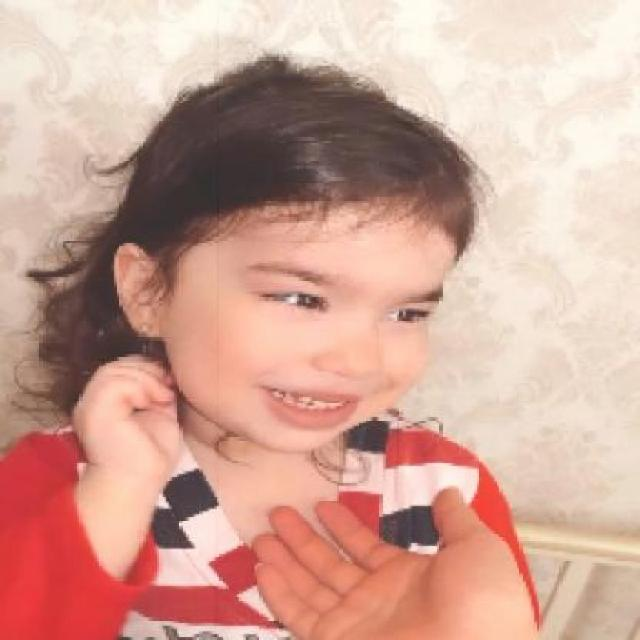child: (3, 48, 546, 638)
